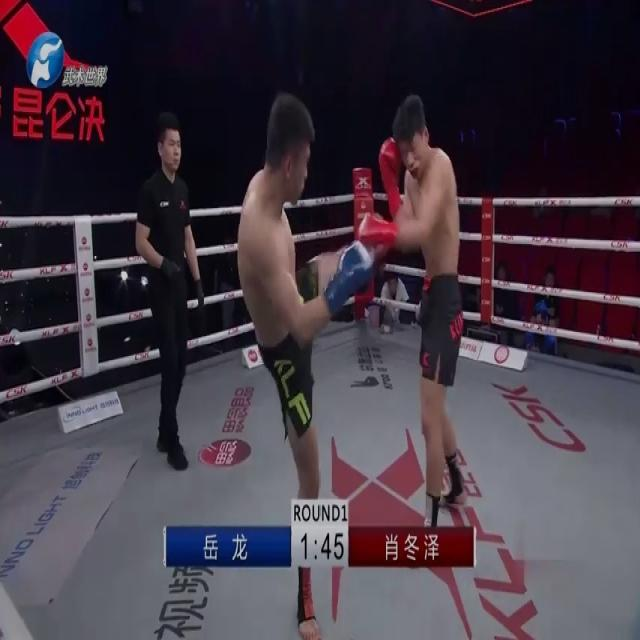fight: (236, 91, 466, 640)
non-fight: (135, 111, 204, 468), (528, 265, 563, 355), (492, 264, 522, 348), (212, 245, 237, 334), (378, 269, 411, 331)
